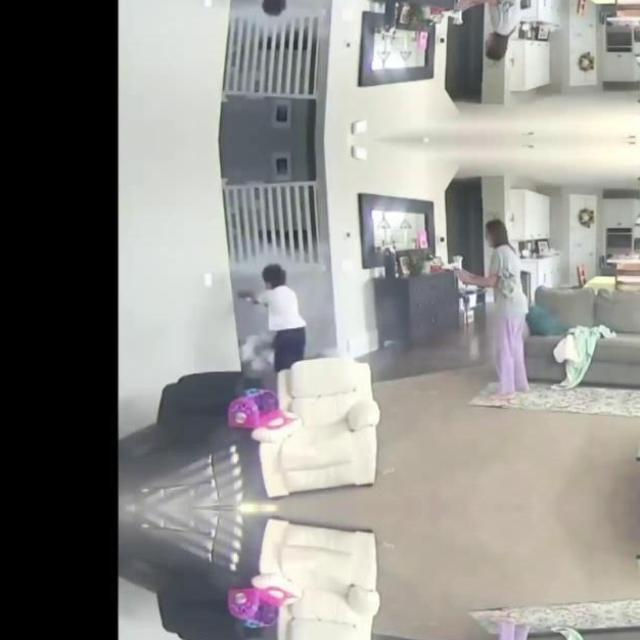fire: (240, 330, 276, 372)
